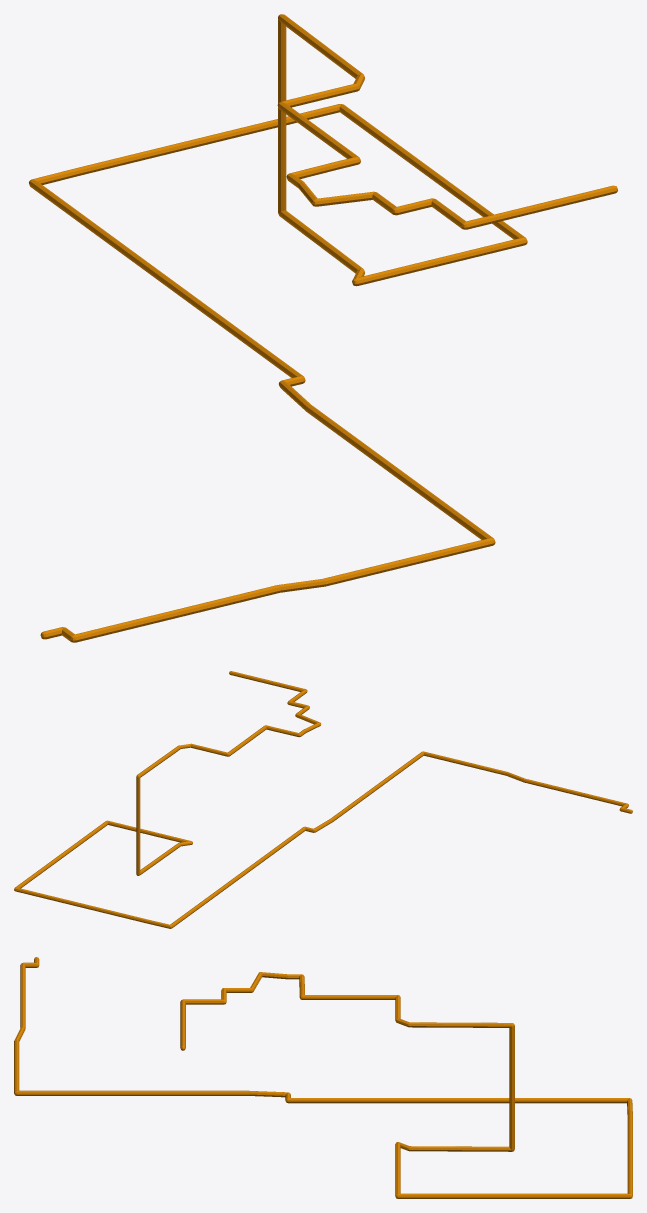
3 views of the same model, one above another, from view 1: azimuth 30°, elevation 25°; view 2: azimuth 150°, elevation 25°; view 3: azimuth 270°, elevation 25° (orthographic). The views are drawn at different scales.
Size of the model in its own units: 2071 by 520 by 2266.
